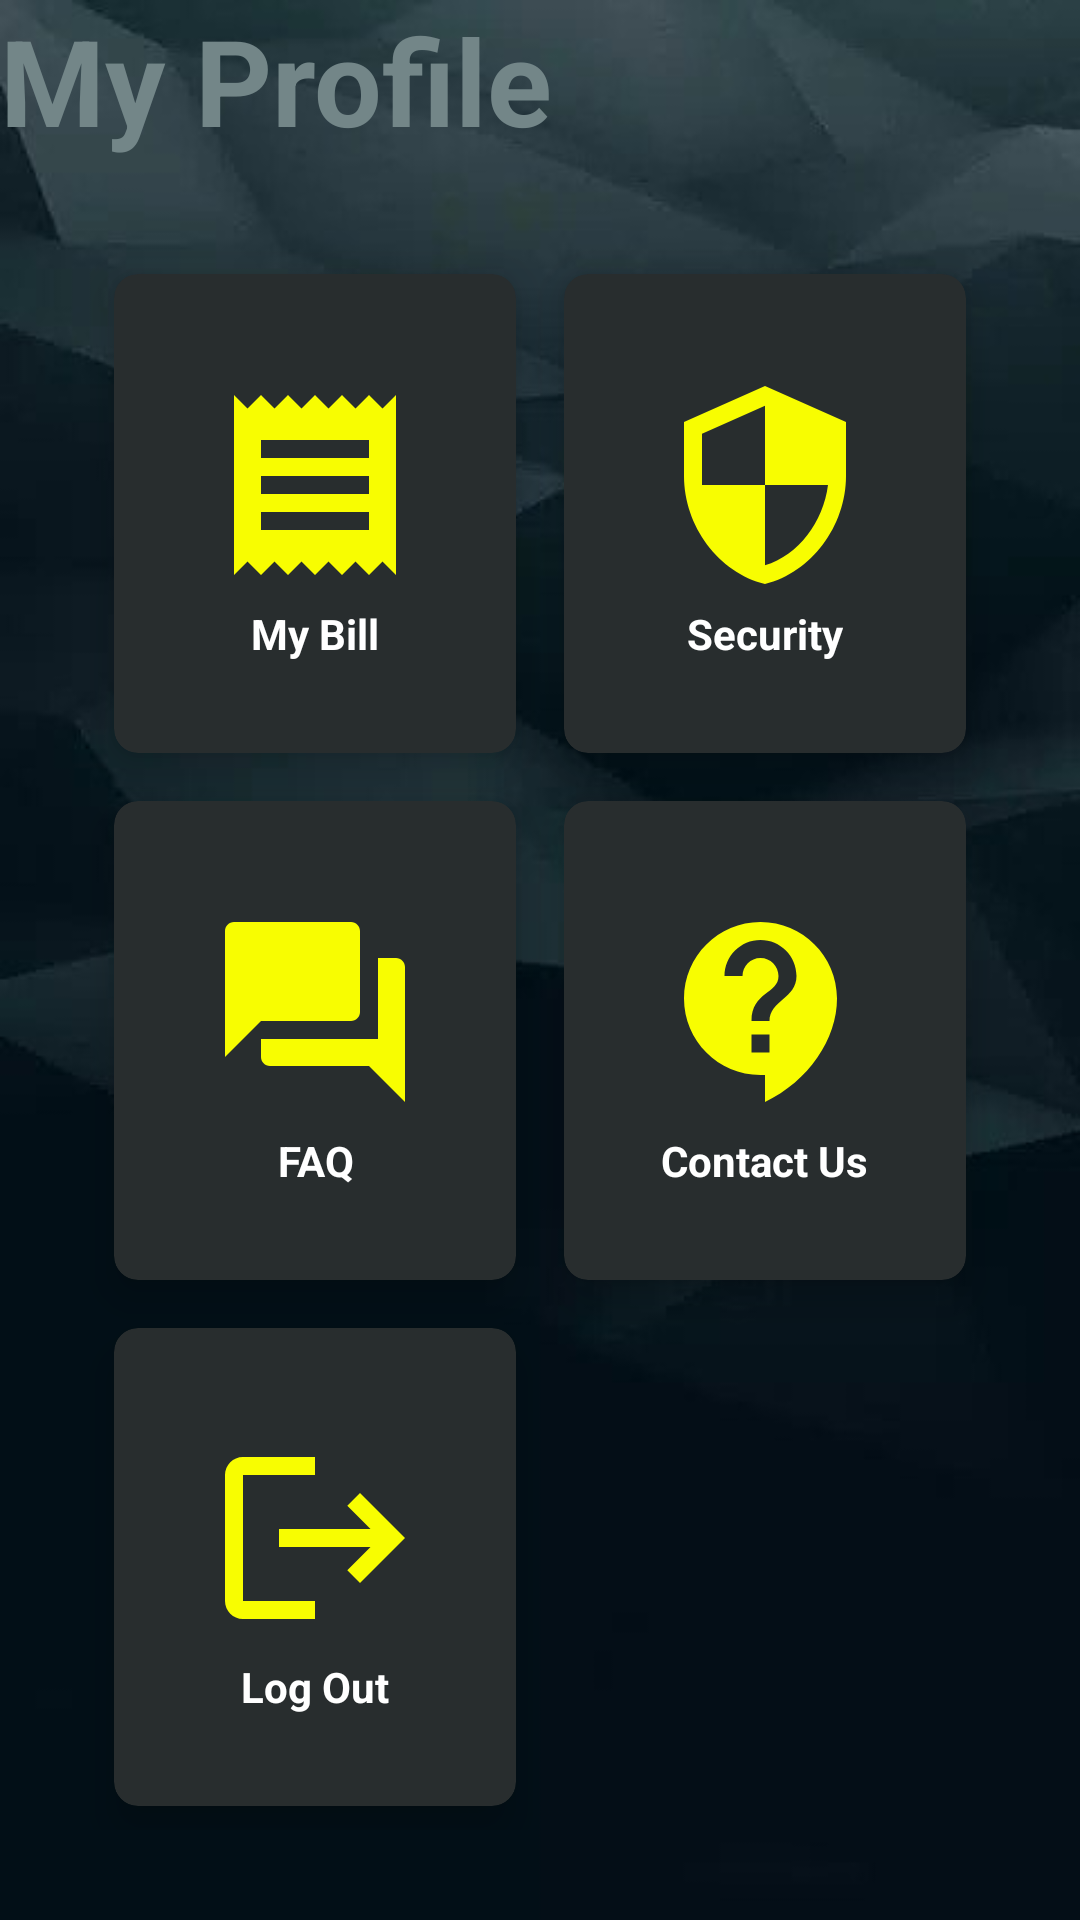

Locate icon controls on the screen. Image size 1080px x 1920px, boxes as region(x1, y1, x2, y2).
question answer: region(225, 922, 405, 1102)
receipt: region(234, 395, 396, 575)
